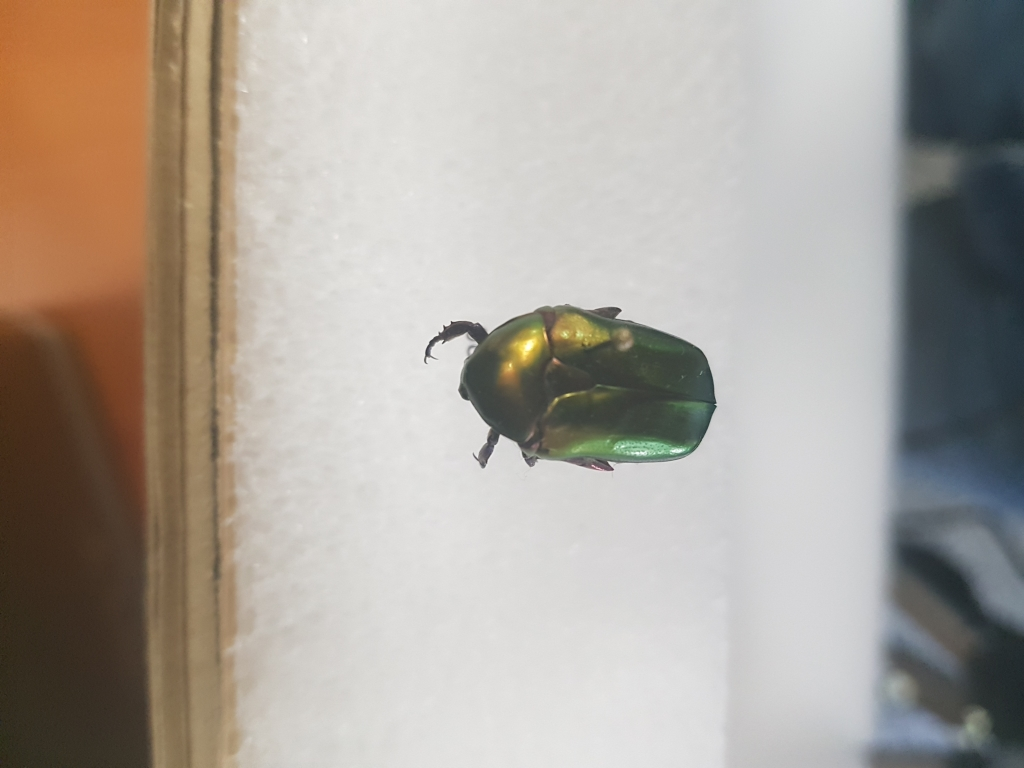Protaetia_cuprea_ignicollis: (422, 295, 718, 474)
